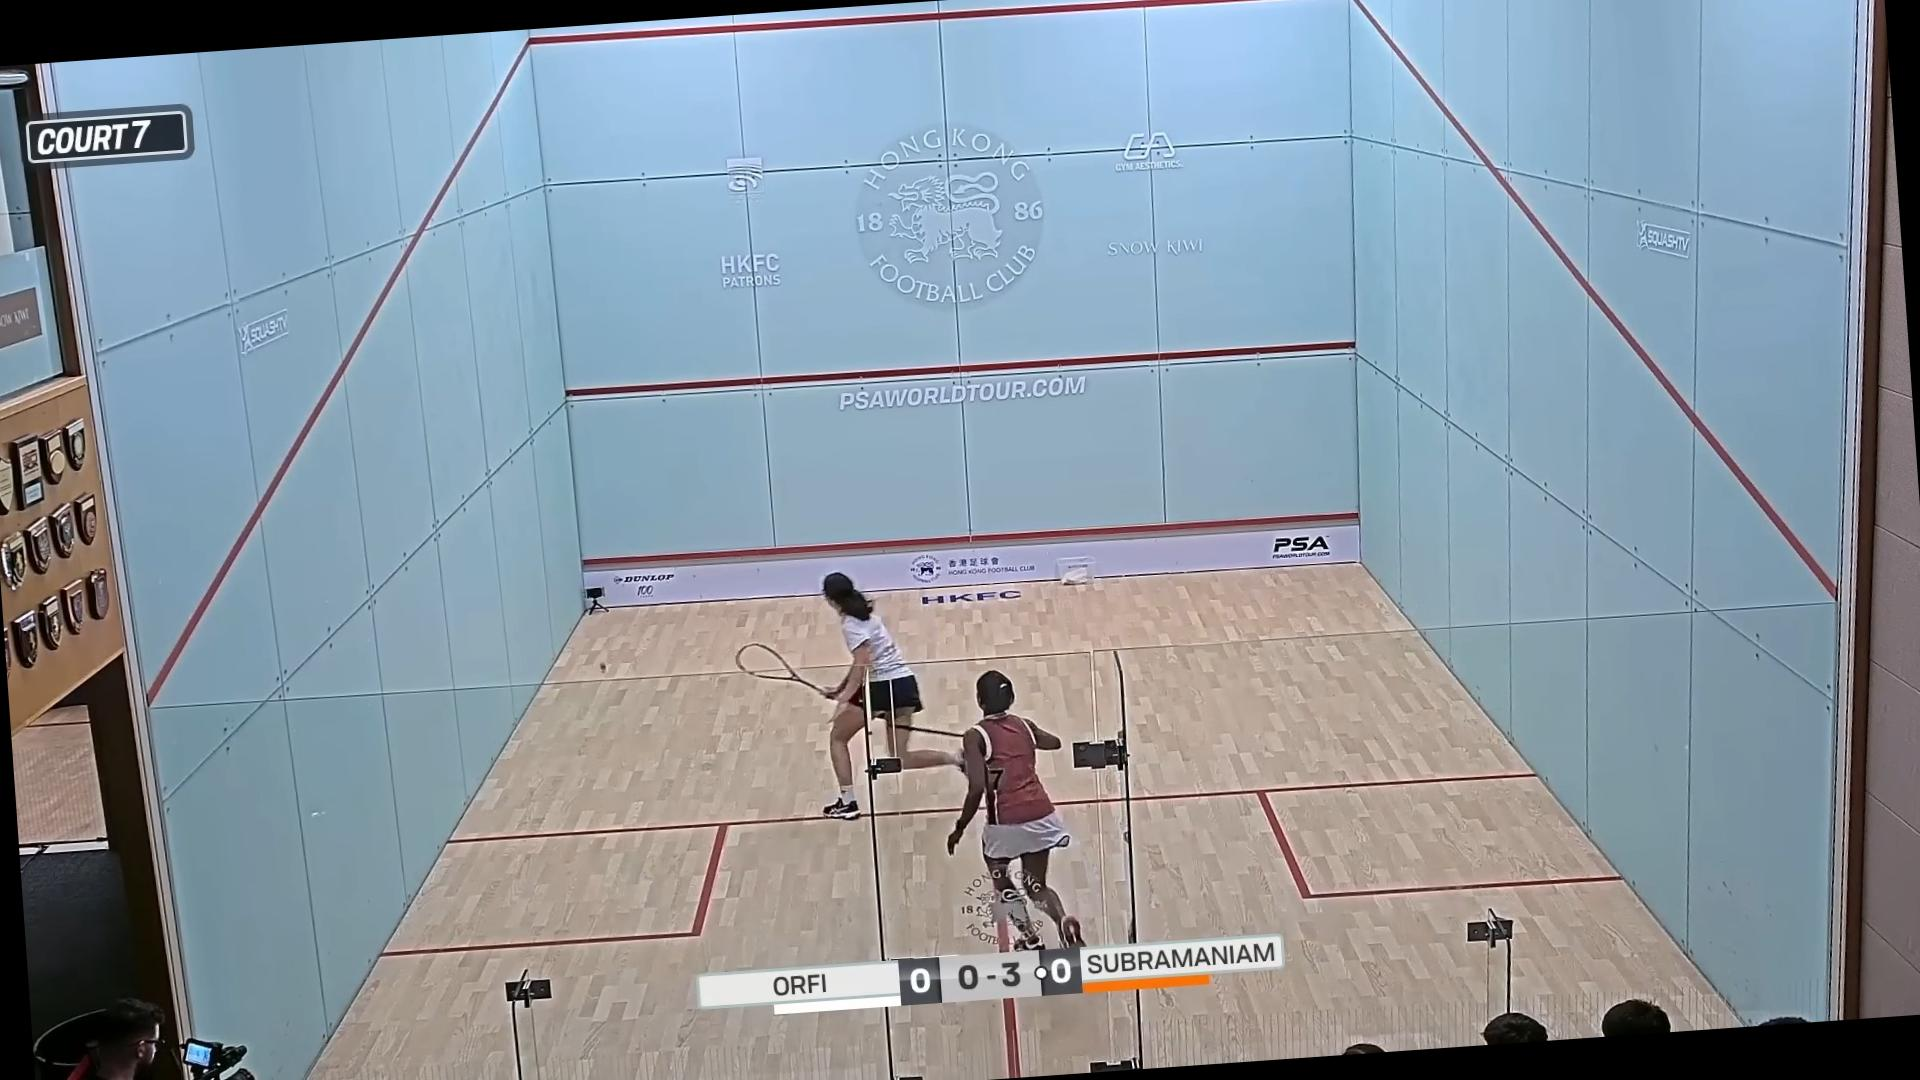Squash-Ball: (588, 654, 616, 680)
